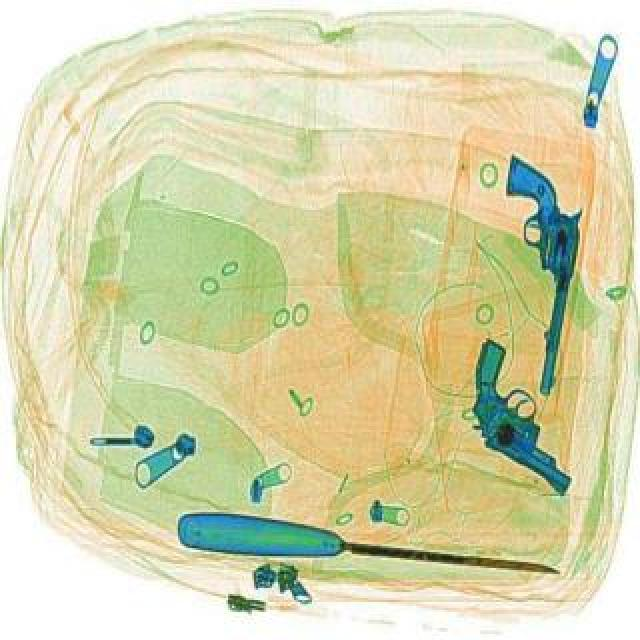gun: (474, 152, 590, 392), (440, 326, 570, 510)
knife: (172, 498, 564, 600)
